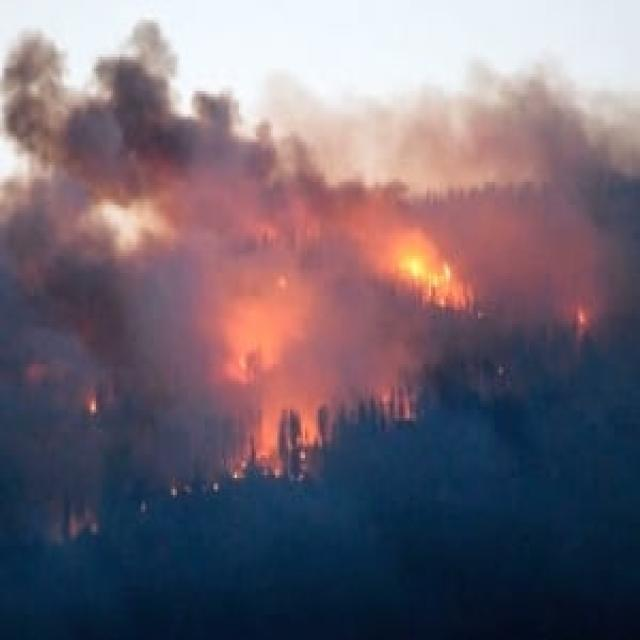Fire: (372, 209, 476, 316)
Smoke: (0, 16, 640, 384), (0, 159, 286, 592)
